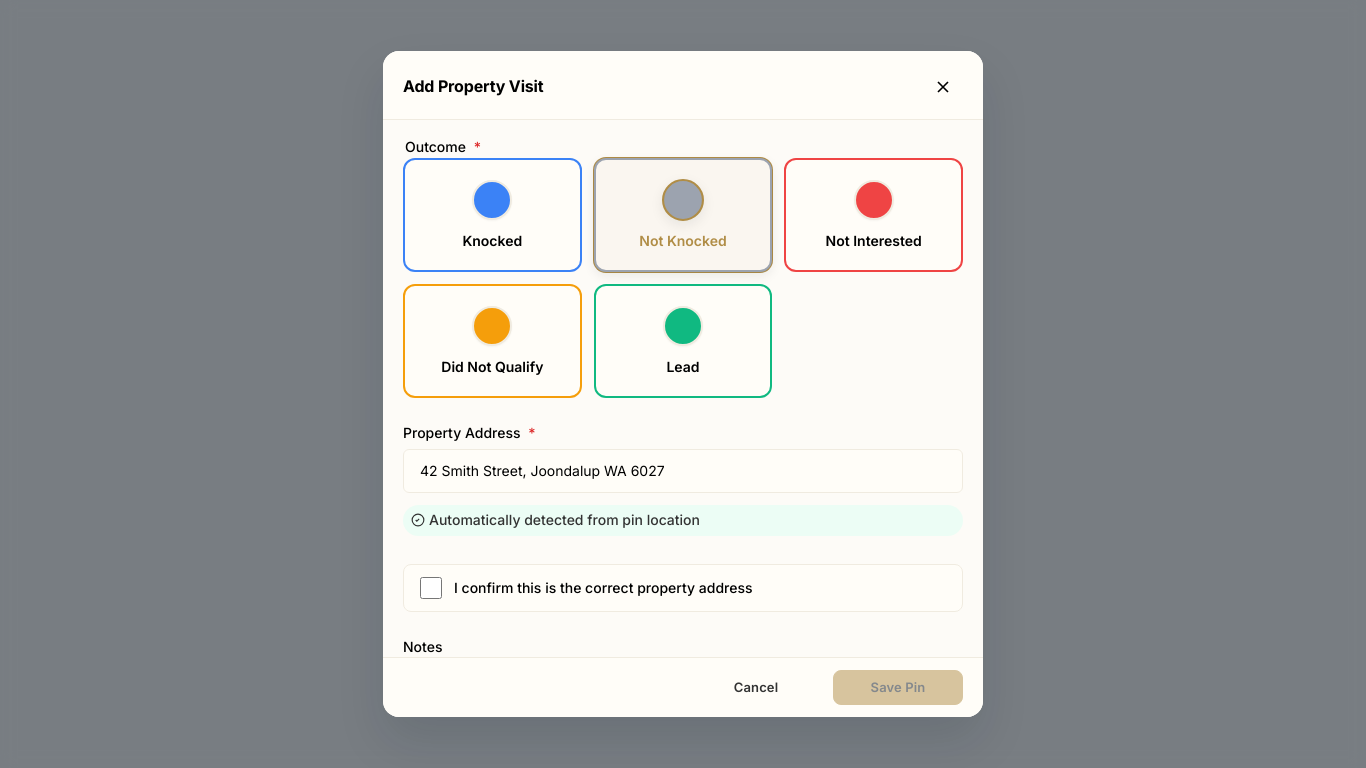
Test: PinModal - outcome-specific contact fields › retains typed contact data when switching away from and back to Lead
Expected: the field labelled "Property Address *" holds "42 Smith Street, Joondalup WA 6027", [403,449,963,493]
Click the radio button labelled "Lead" at coordinates (683, 341), box [594,284,772,398]
(page scrolled)
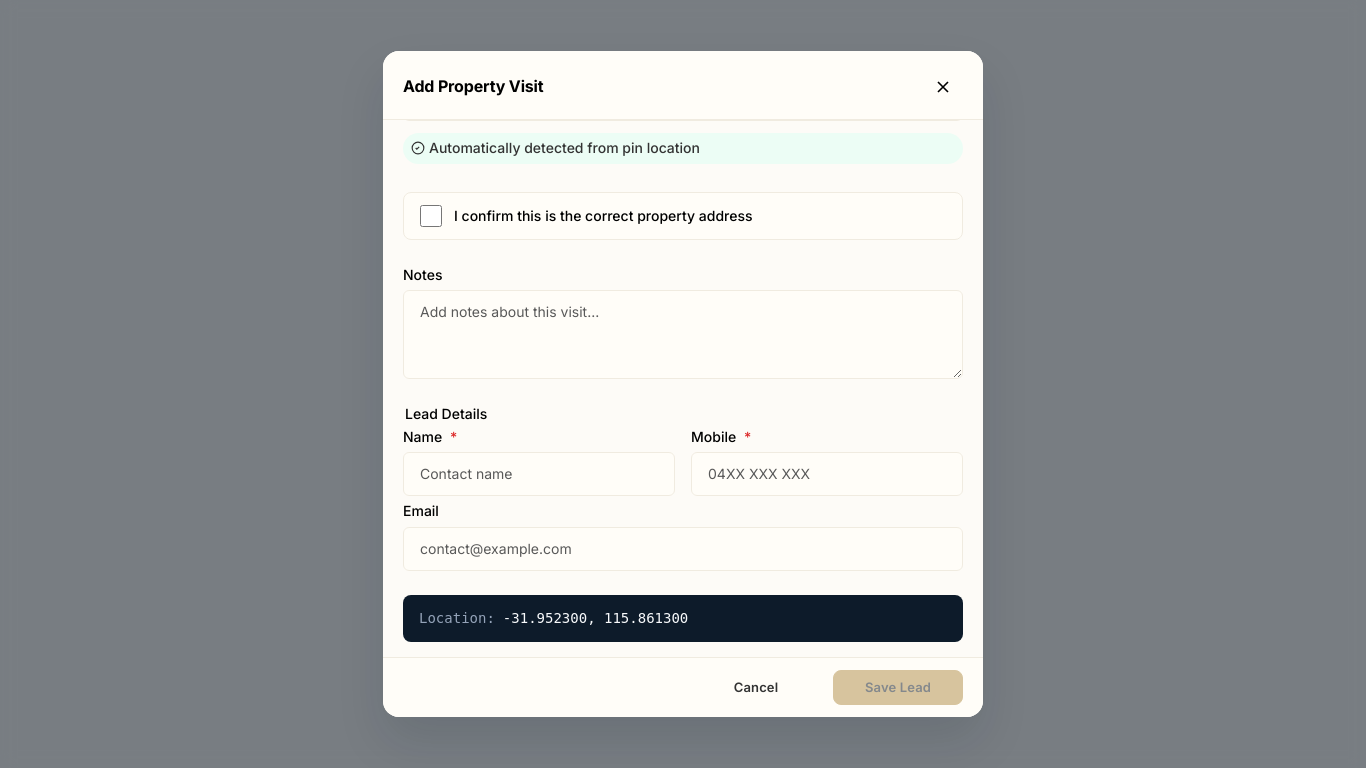
Type "Jane Doe" into the field labelled "Name *" at coordinates (539, 474), box [403,452,675,496]
(page scrolled)
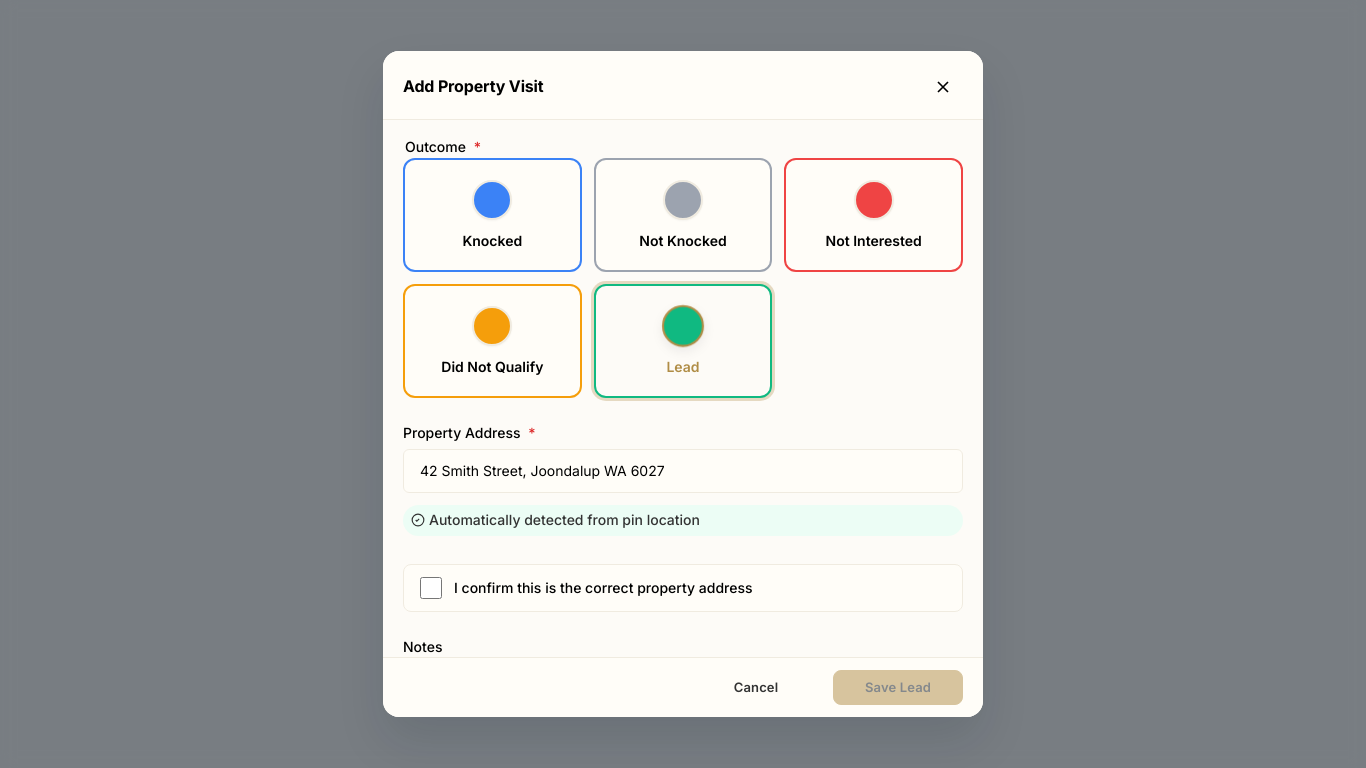
Click the radio button labelled "Knocked" at coordinates (492, 215), box [403,158,582,272]
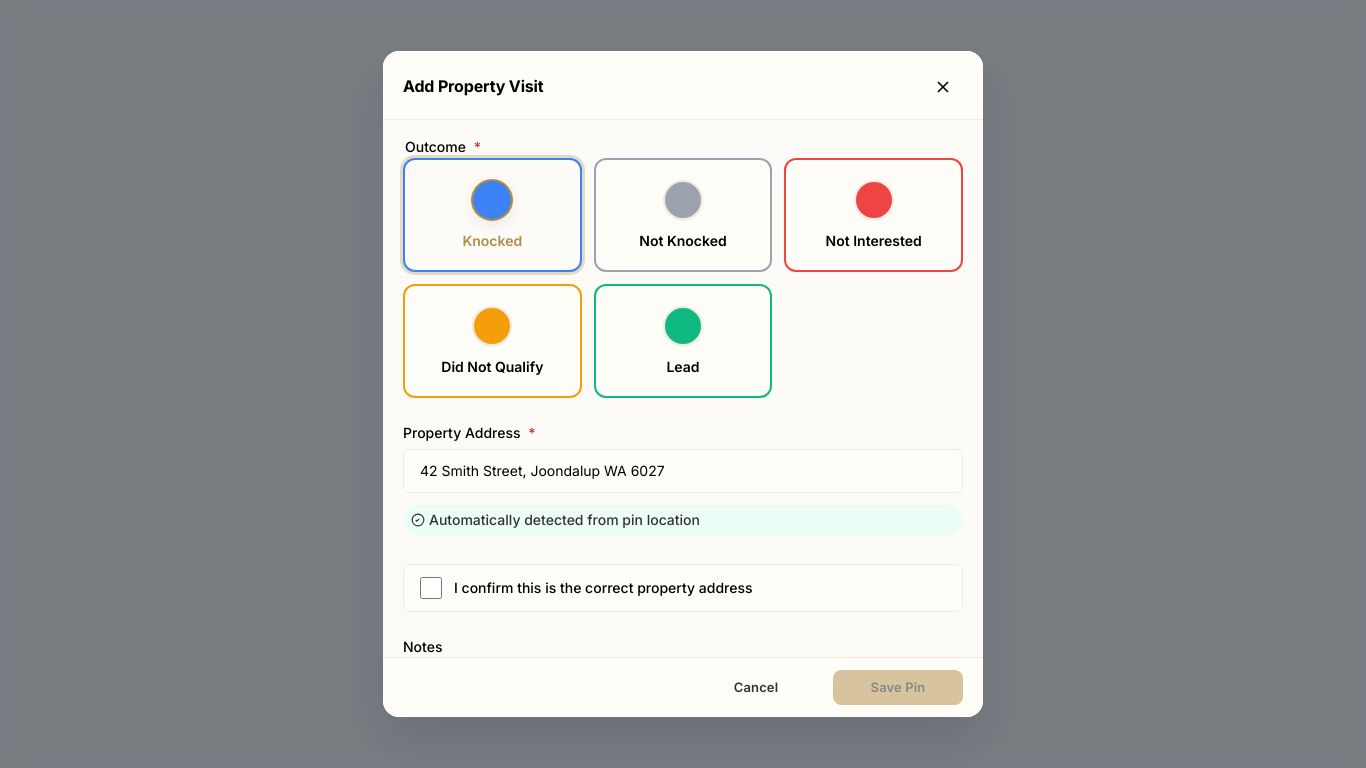
Expected: the label labelled "Name *" is not shown
Now the button "Save Pin" is shown, box [833,670,963,705]
Click the radio button labelled "Lead" at coordinates (683, 341), box [594,284,772,398]
(page scrolled)
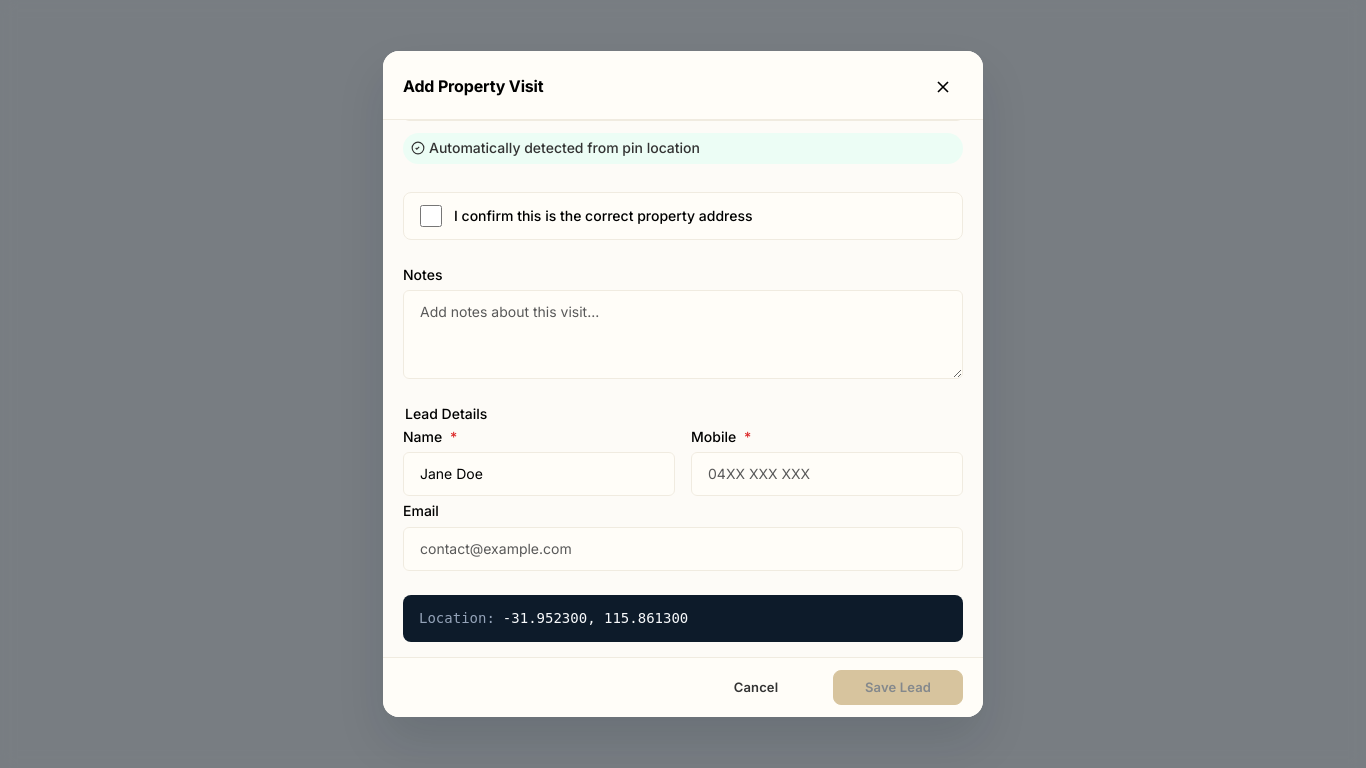
Now the field labelled "Name *" holds "Jane Doe", box [403,452,675,496]
